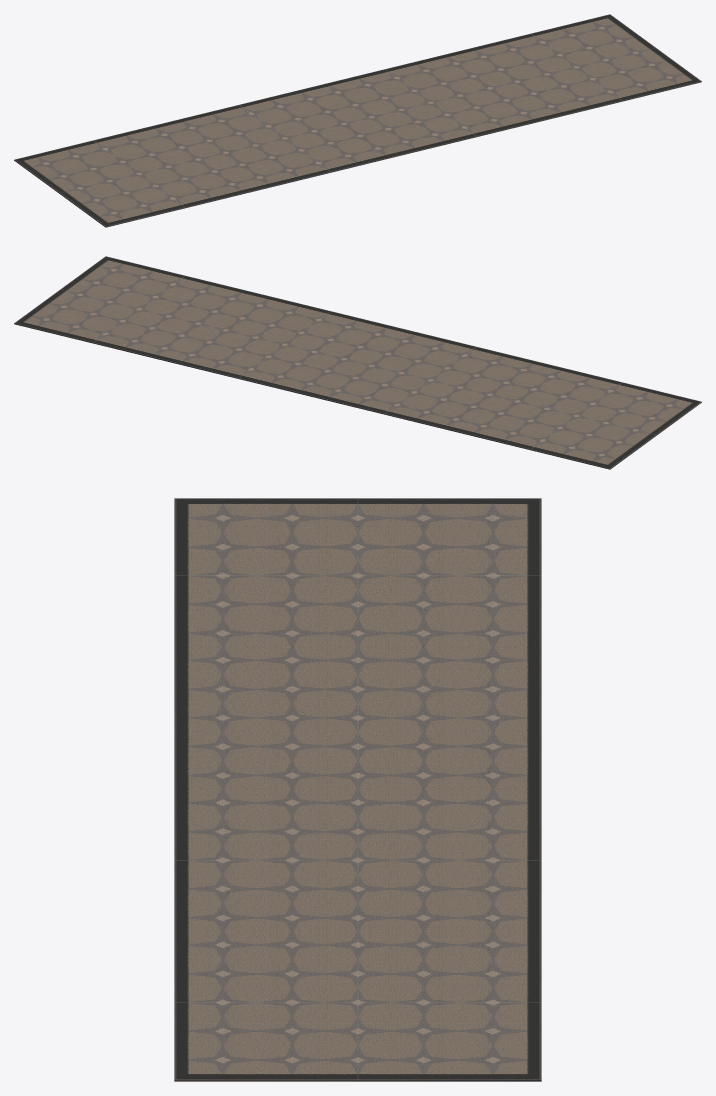
The model's file is Carpet_7x2.FBX.
3 views of the same model, one above another, from view 1: azimuth 30°, elevation 25°; view 2: azimuth 150°, elevation 25°; view 3: azimuth 270°, elevation 25° (orthographic). The views are drawn at different scales.
Parts seen in each view (by area): view 1: Carpet_7x2; view 2: Carpet_7x2; view 3: Carpet_7x2.
Boxes of the visible parts, x1=… form: Carpet_7x2: x1=14, y1=14, x2=701, y2=227; Carpet_7x2: x1=14, y1=256, x2=701, y2=469; Carpet_7x2: x1=174, y1=498, x2=541, y2=1081.
Bounding box in the file's own units: 750 × 1 × 200.
